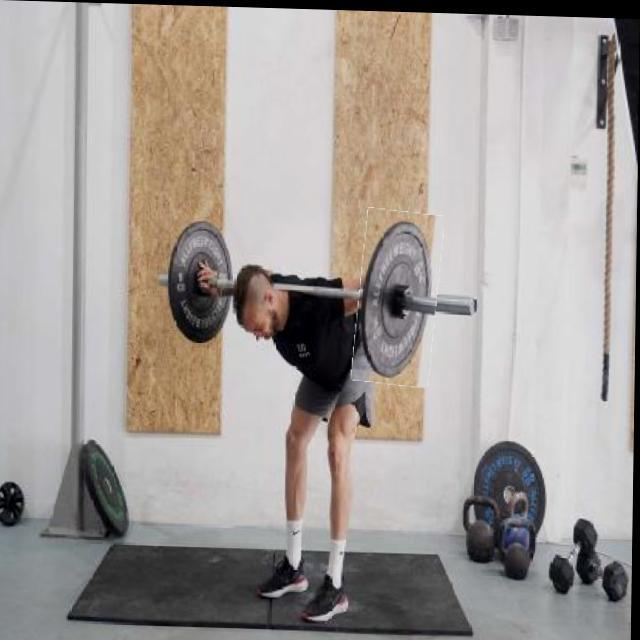barbell: (356, 207, 442, 385)
